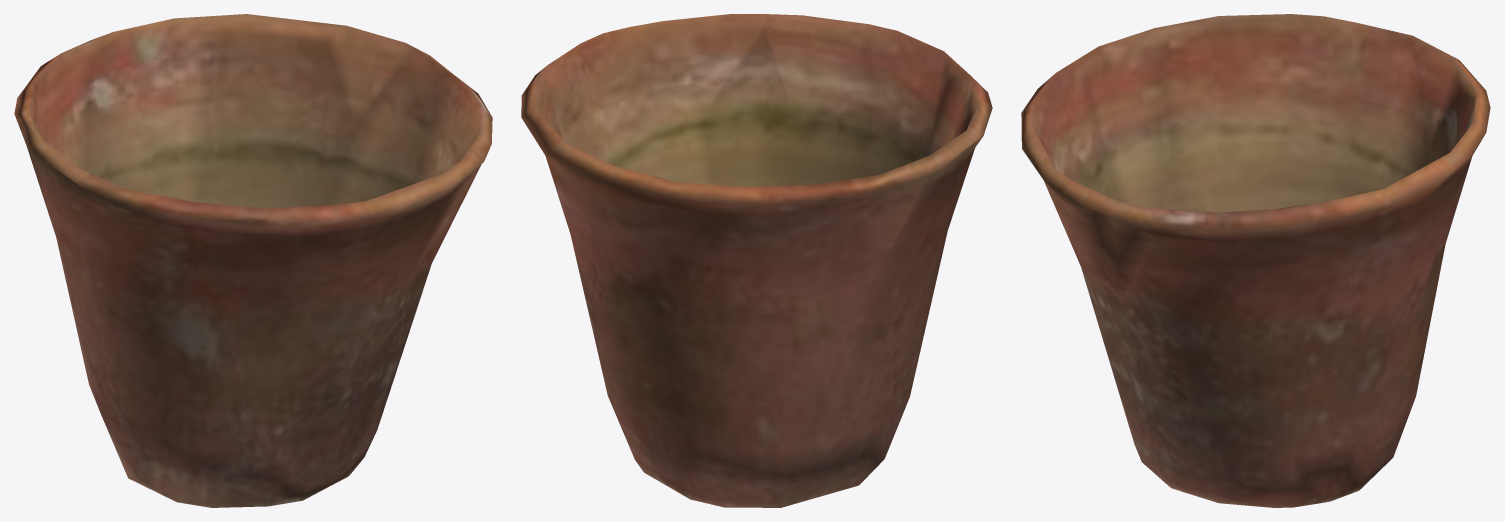
File: pot_clay.glb
3 renders of one model, left to right at view 1: azimuth 30°, elevation 25°; view 2: azimuth 150°, elevation 25°; view 3: azimuth 270°, elevation 25°, orthographic.
Visible parts, largest first — view 1: pot_clay; view 2: pot_clay; view 3: pot_clay.
Part boxes in pixels (left/top/right/bottom): pot_clay: left=14, top=14, right=492, bottom=507; pot_clay: left=521, top=14, right=992, bottom=507; pot_clay: left=1021, top=14, right=1490, bottom=507.
Size of the model in its own units: 0.2637 by 0.2218 by 0.2616.
1 material, 1 textured.
